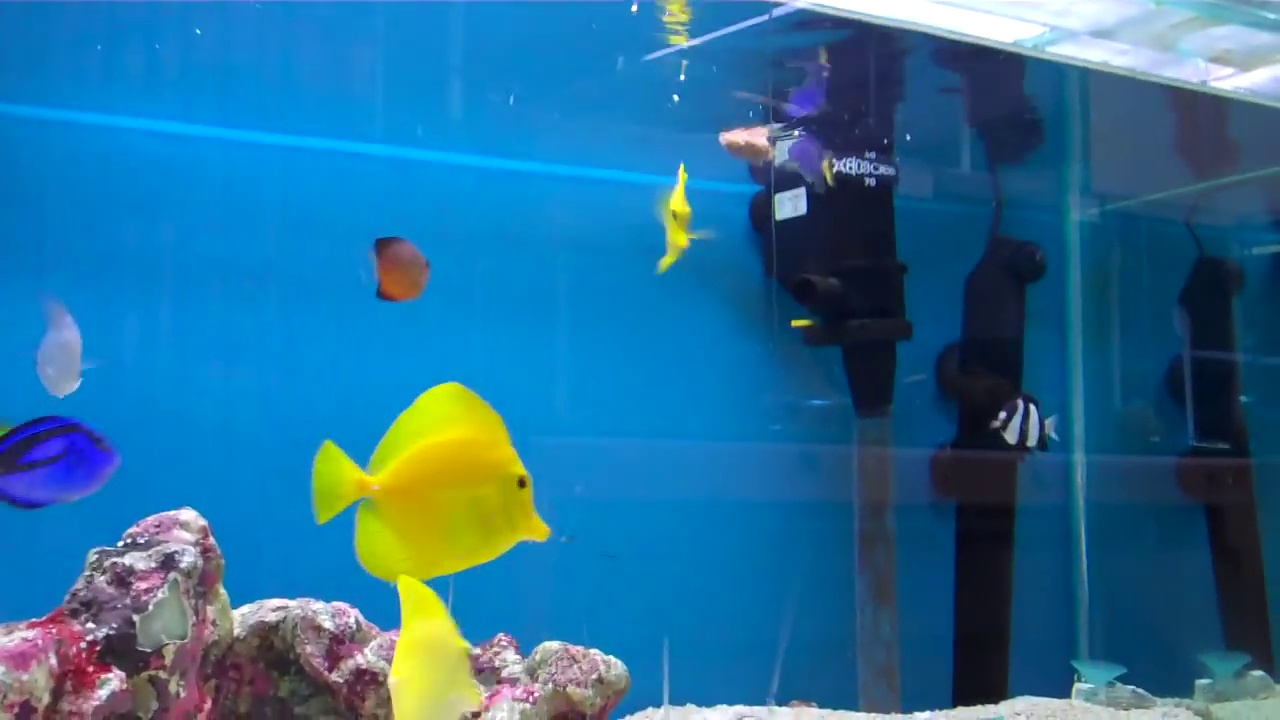blue tang surgeonfish: (0, 407, 142, 518)
saddle butterfly fish: (305, 360, 560, 582), (635, 157, 701, 280)
